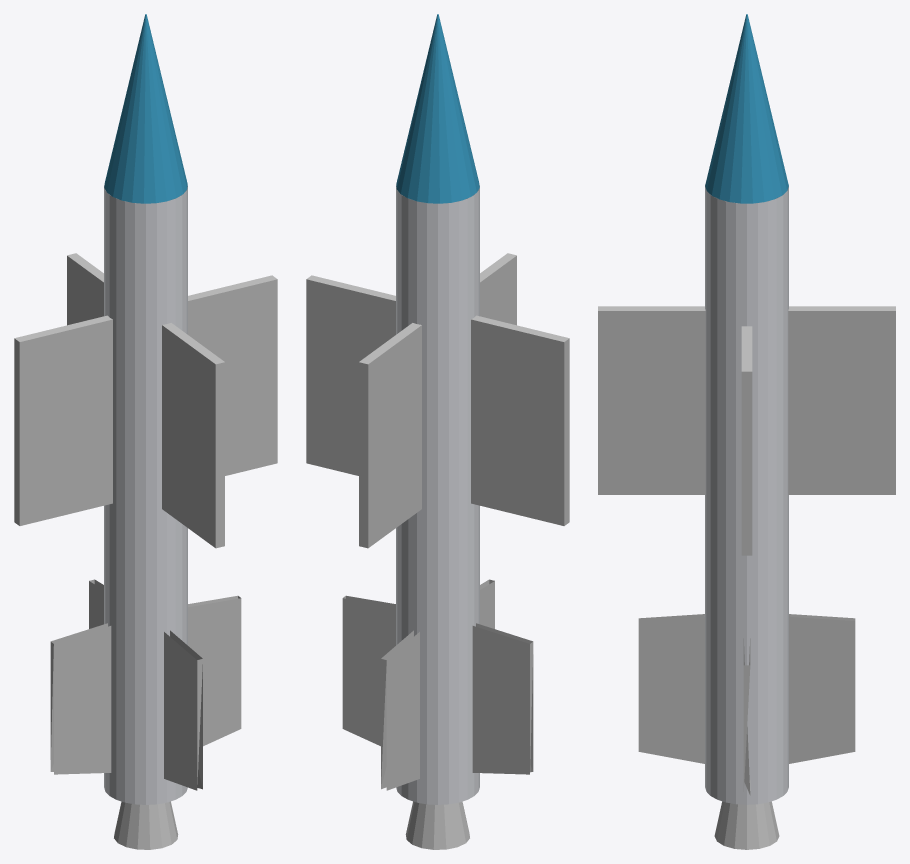
File: aam.obj
The picture shows the model from 3 angles, left to right: view 1: azimuth 30°, elevation 25°; view 2: azimuth 150°, elevation 25°; view 3: azimuth 270°, elevation 25°; orthographic projection.
Visible parts, largest first — view 1: aam; view 2: aam; view 3: aam.
Boxes of the visible parts, x1,y1,x2,y2 form: aam: (14,14,277,849); aam: (306,14,569,849); aam: (598,14,895,849).
Bounding box in the file's own units: 0.44 × 1.34 × 0.44.
